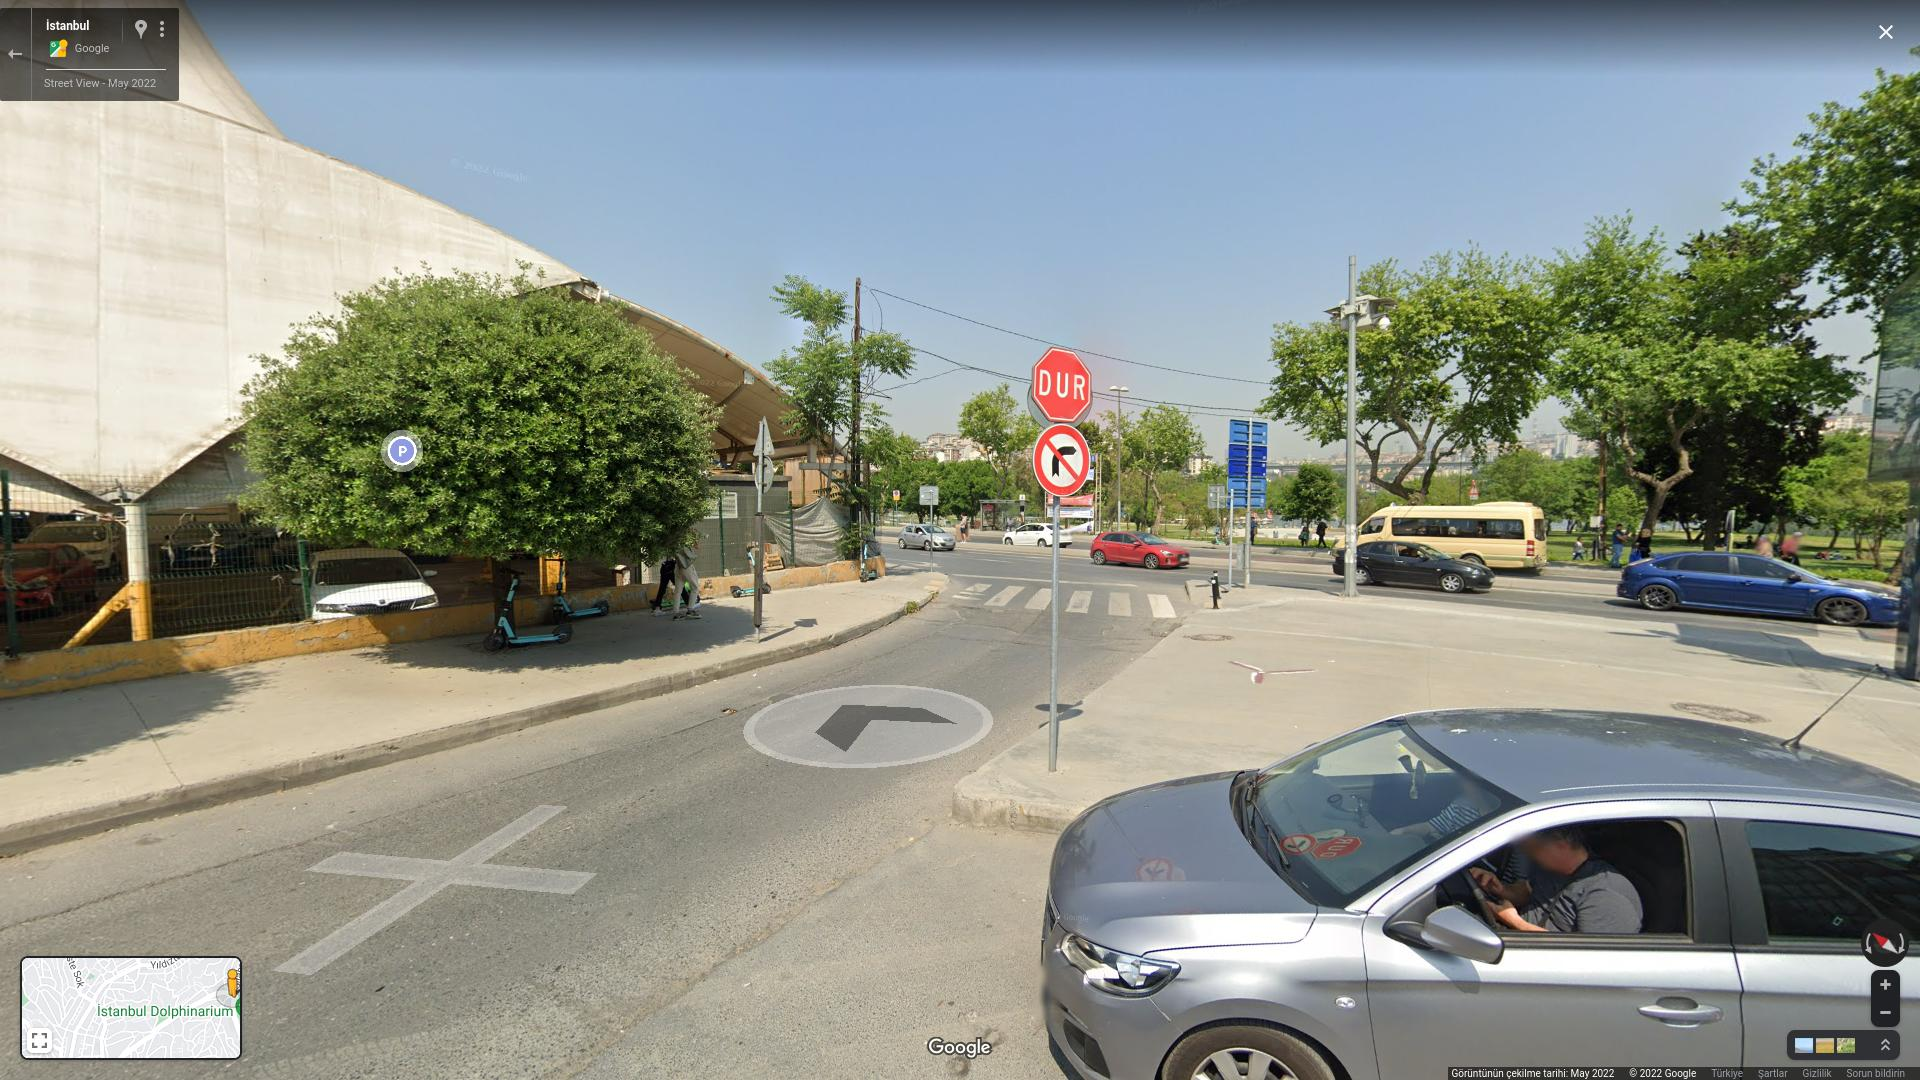rightturnsareforbidden: (1031, 421, 1093, 491)
stop: (1033, 347, 1093, 423)
